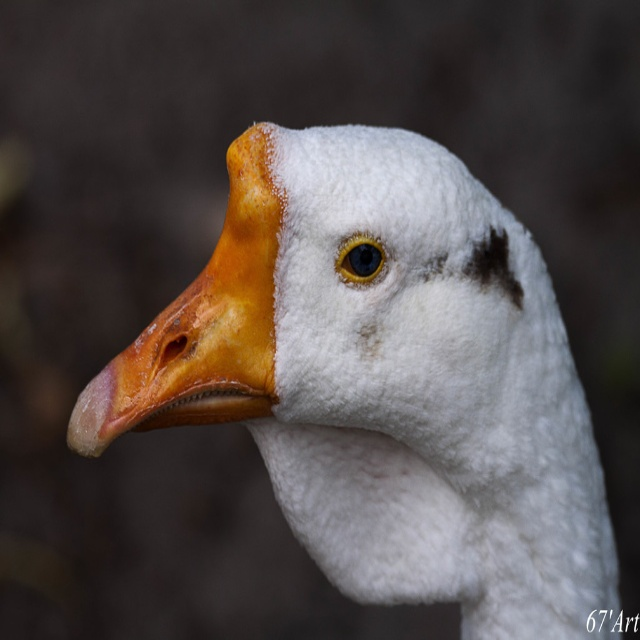Goose: (65, 109, 618, 639)
